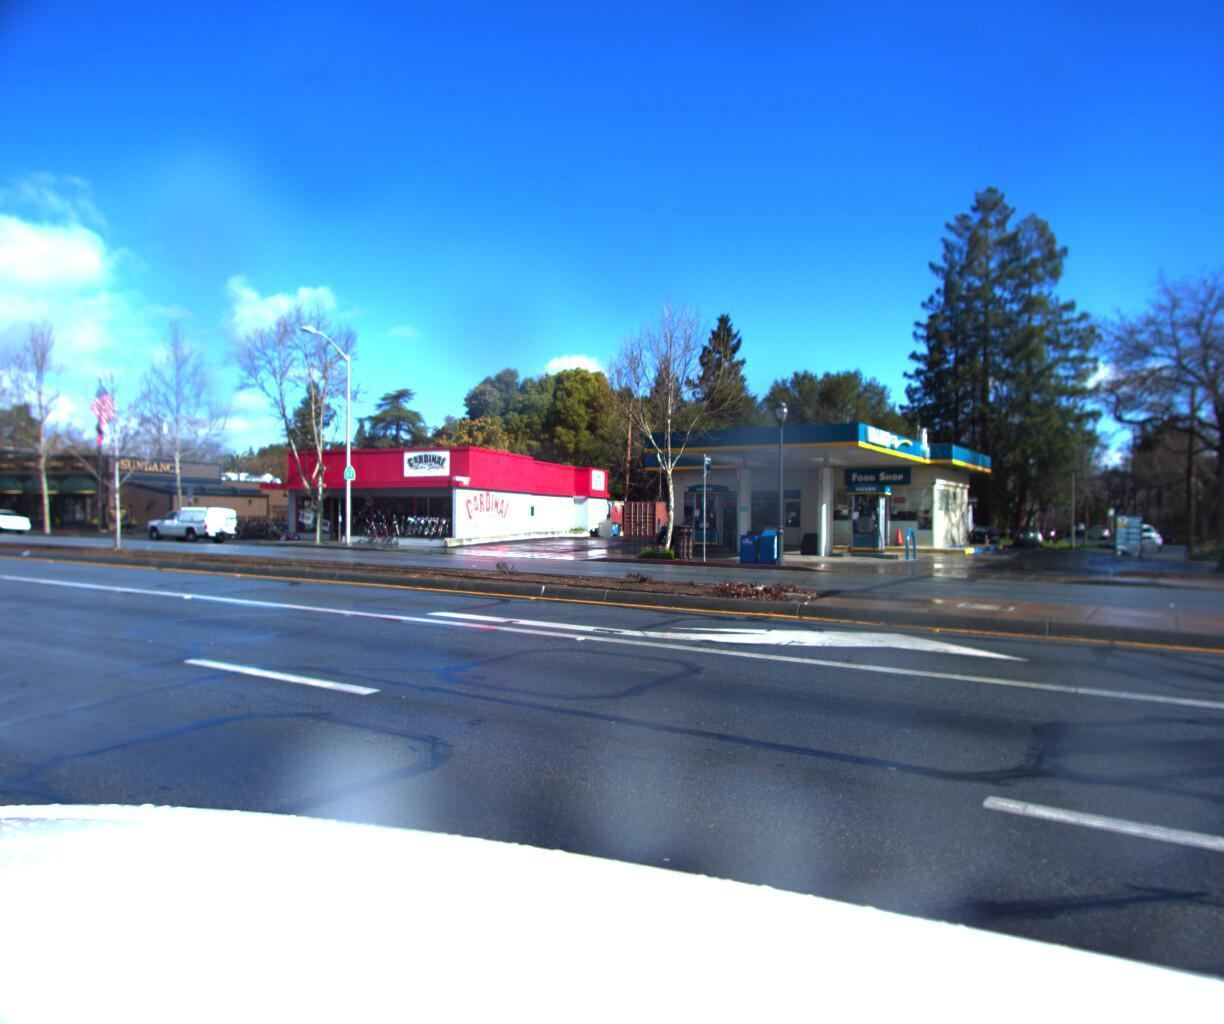car: (642, 504, 772, 556), (136, 508, 245, 547), (1107, 520, 1165, 550), (0, 513, 35, 544), (1009, 517, 1046, 544)
